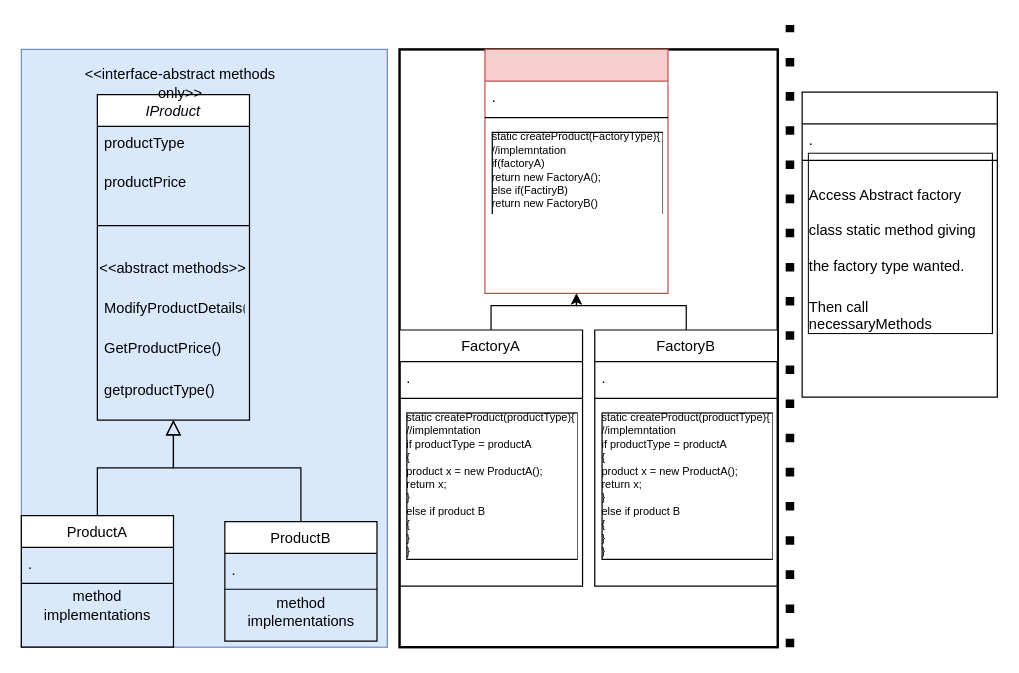
The diagram is 1019 pixels wide and 673 high, and some of its shapes have lost their labels. The shapes that lost their labels are listed below. From the top down, each one's box as (x1, y1, x2, y2) in pixels, then its label:
(484, 48, 668, 293): Abstract Factory
(801, 91, 997, 397): Client class
